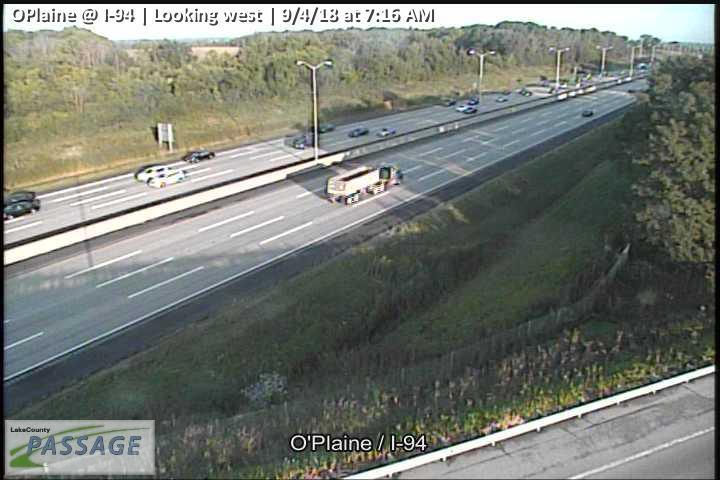SUV: (136, 164, 173, 182), (149, 169, 184, 188)
Sedan: (293, 132, 318, 148), (184, 150, 214, 162), (349, 126, 368, 137), (317, 123, 336, 132), (376, 128, 394, 137), (463, 107, 478, 113), (582, 110, 593, 116), (455, 105, 466, 111)
Truck: (327, 164, 403, 204)
